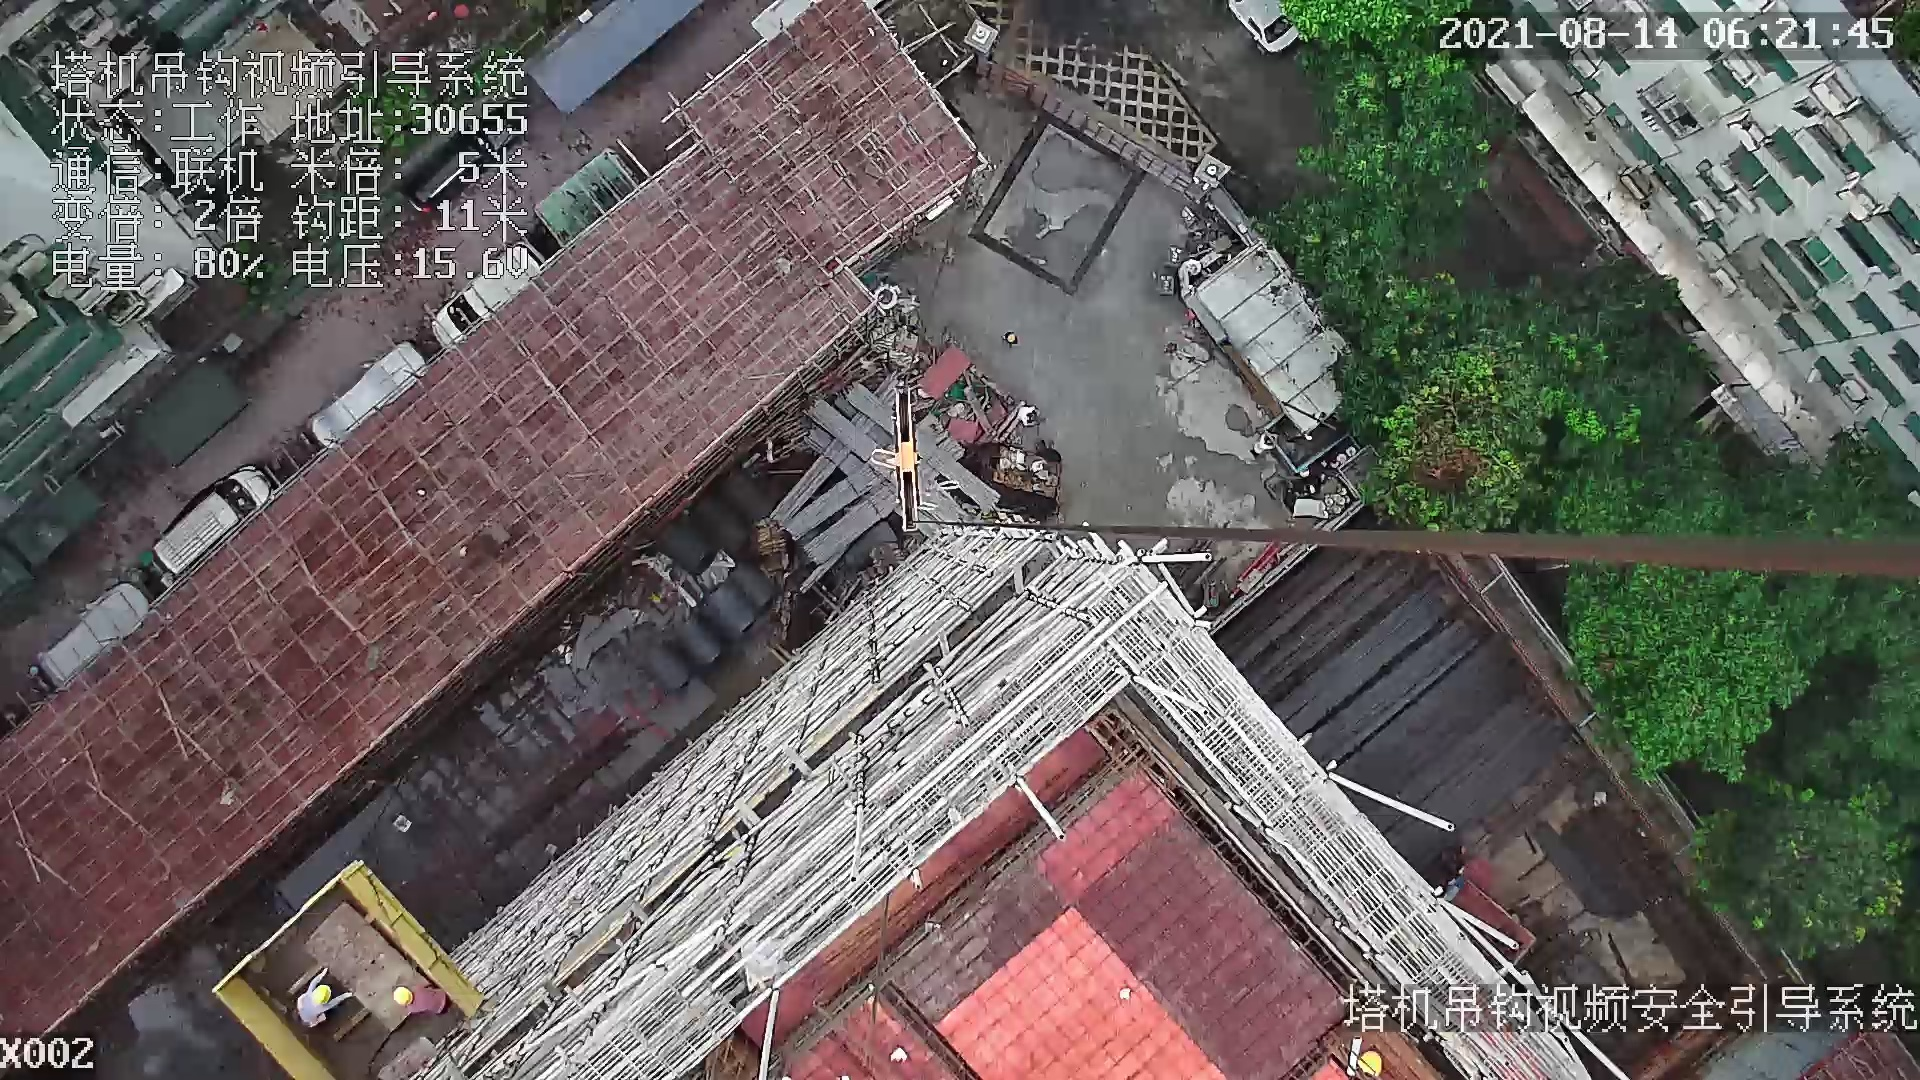helmet: (390, 985, 415, 1009), (313, 985, 333, 1007)
hook: (869, 386, 926, 533)
person: (283, 960, 351, 1033), (379, 967, 453, 1022)
